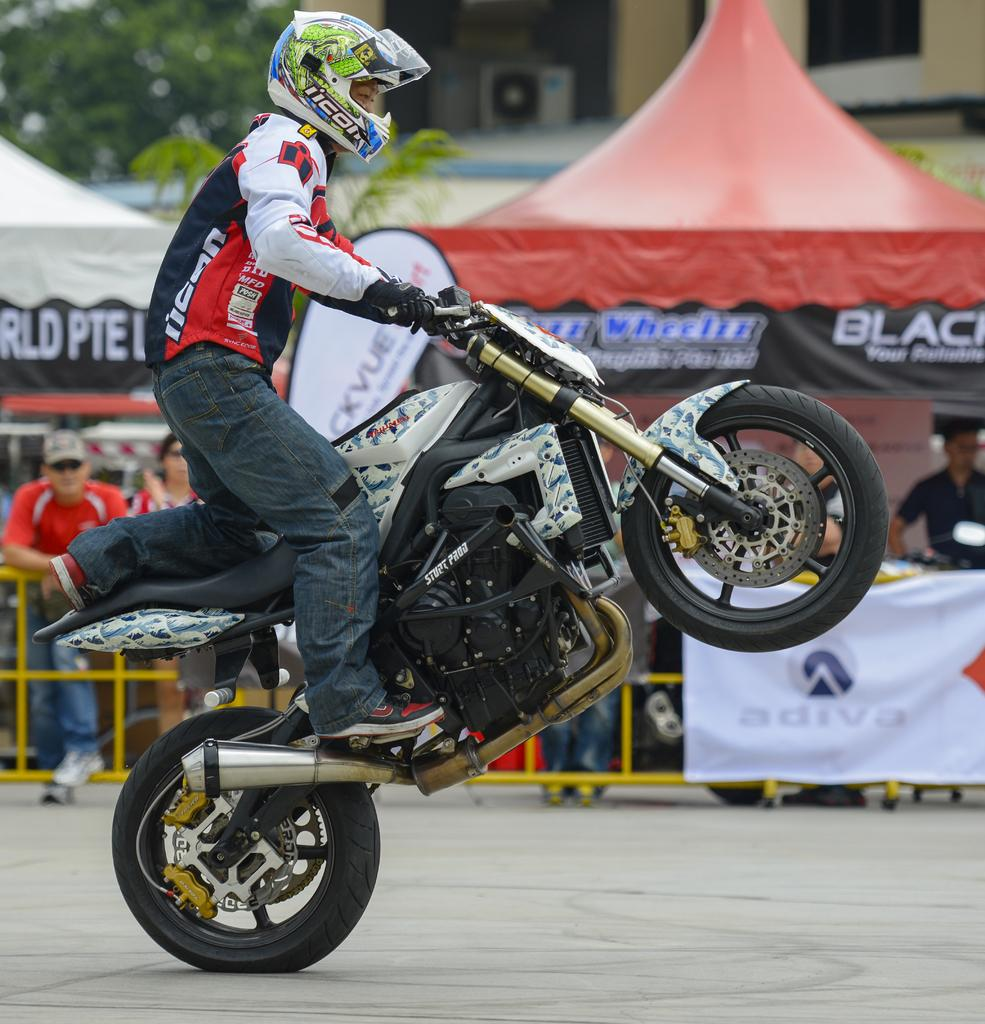helmet: (267, 10, 431, 164)
nohelmet: (42, 430, 92, 501), (941, 416, 980, 475)
